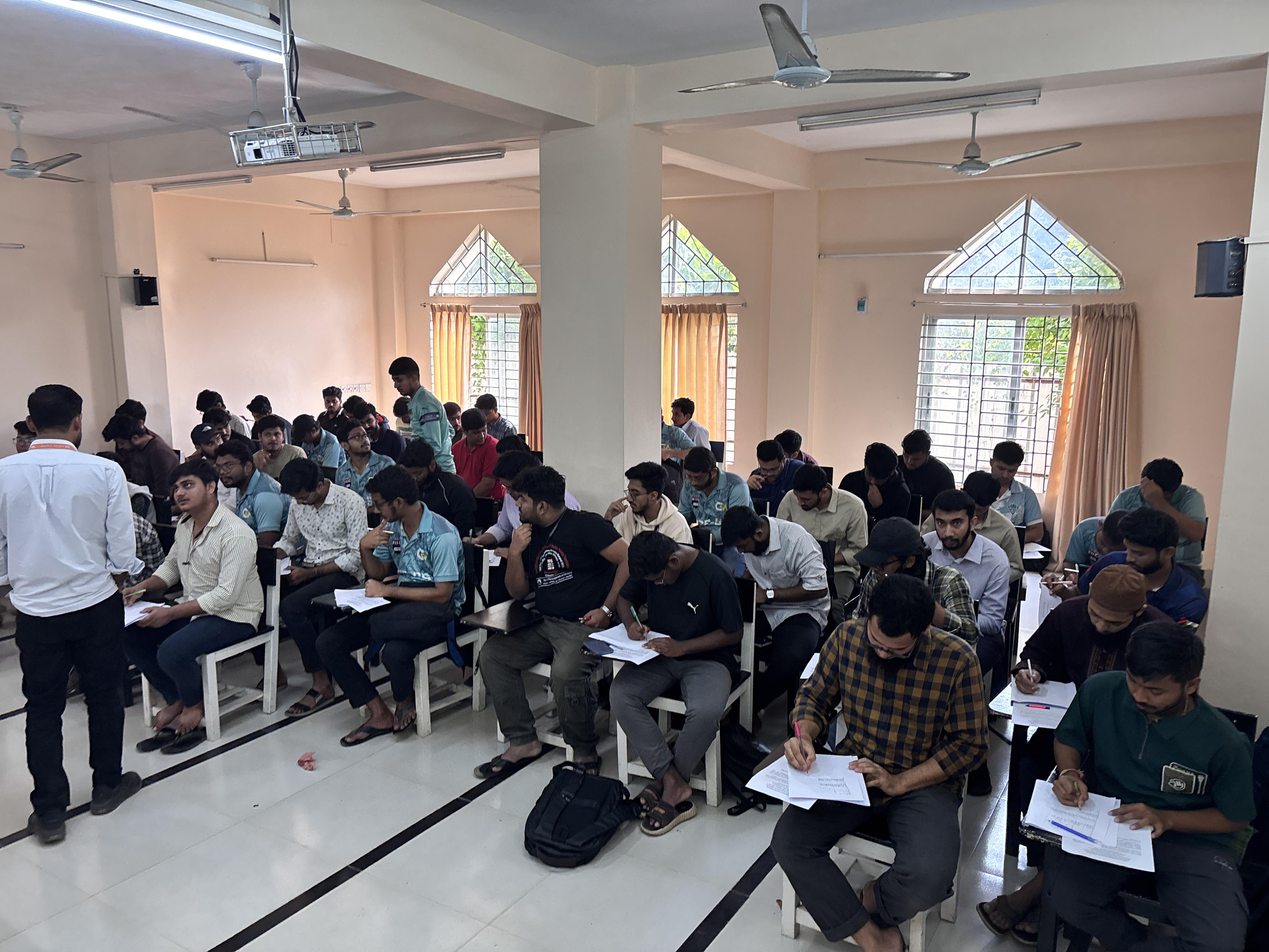copying: (335, 487, 455, 696), (460, 407, 503, 489)
no_cheating: (1020, 638, 1244, 952), (774, 582, 968, 910), (477, 468, 610, 722), (131, 470, 260, 699), (612, 536, 737, 723), (996, 560, 1126, 717), (279, 462, 356, 615), (722, 503, 817, 606), (911, 495, 989, 613), (1105, 503, 1196, 593), (763, 483, 863, 564), (214, 440, 282, 543), (1111, 450, 1194, 533), (607, 448, 681, 538), (99, 413, 167, 471), (685, 445, 735, 519), (848, 443, 902, 509), (477, 450, 516, 534), (895, 426, 946, 488), (672, 383, 716, 447), (974, 473, 1016, 533), (990, 439, 1031, 500), (480, 391, 520, 440), (290, 412, 328, 457), (749, 439, 789, 481), (192, 388, 233, 420)
suspicious_moving: (386, 366, 449, 464), (332, 412, 386, 469), (176, 423, 234, 475), (253, 412, 302, 471)
